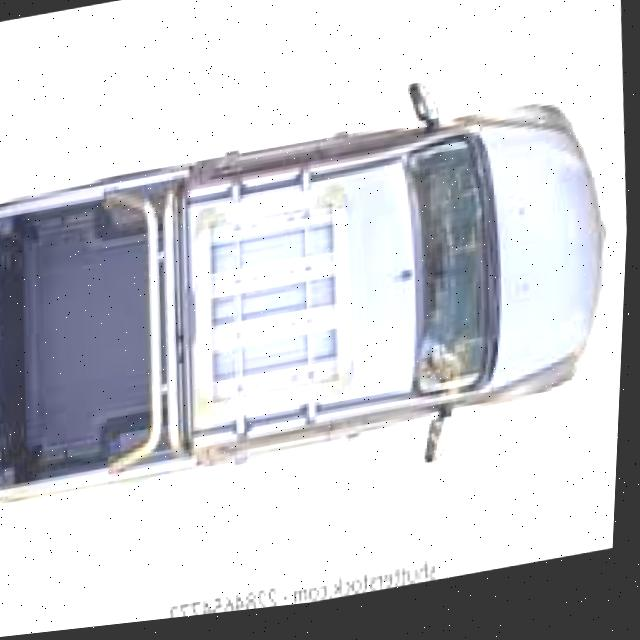truck: (0, 94, 626, 527)
